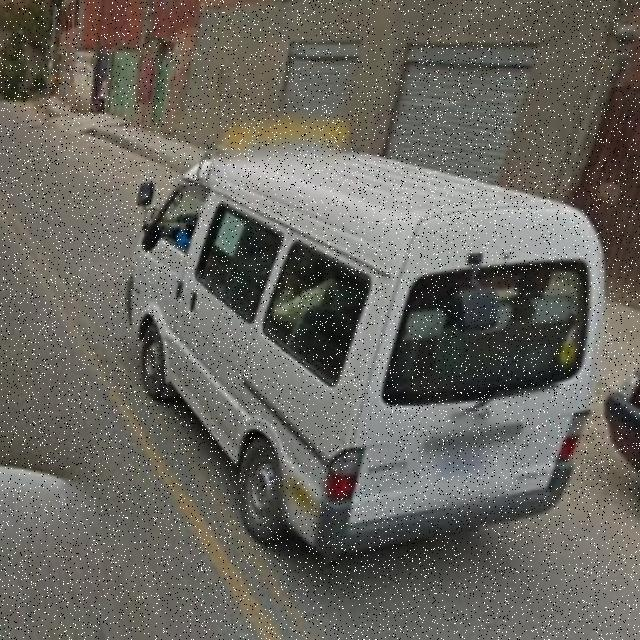cars: (111, 148, 612, 574)
